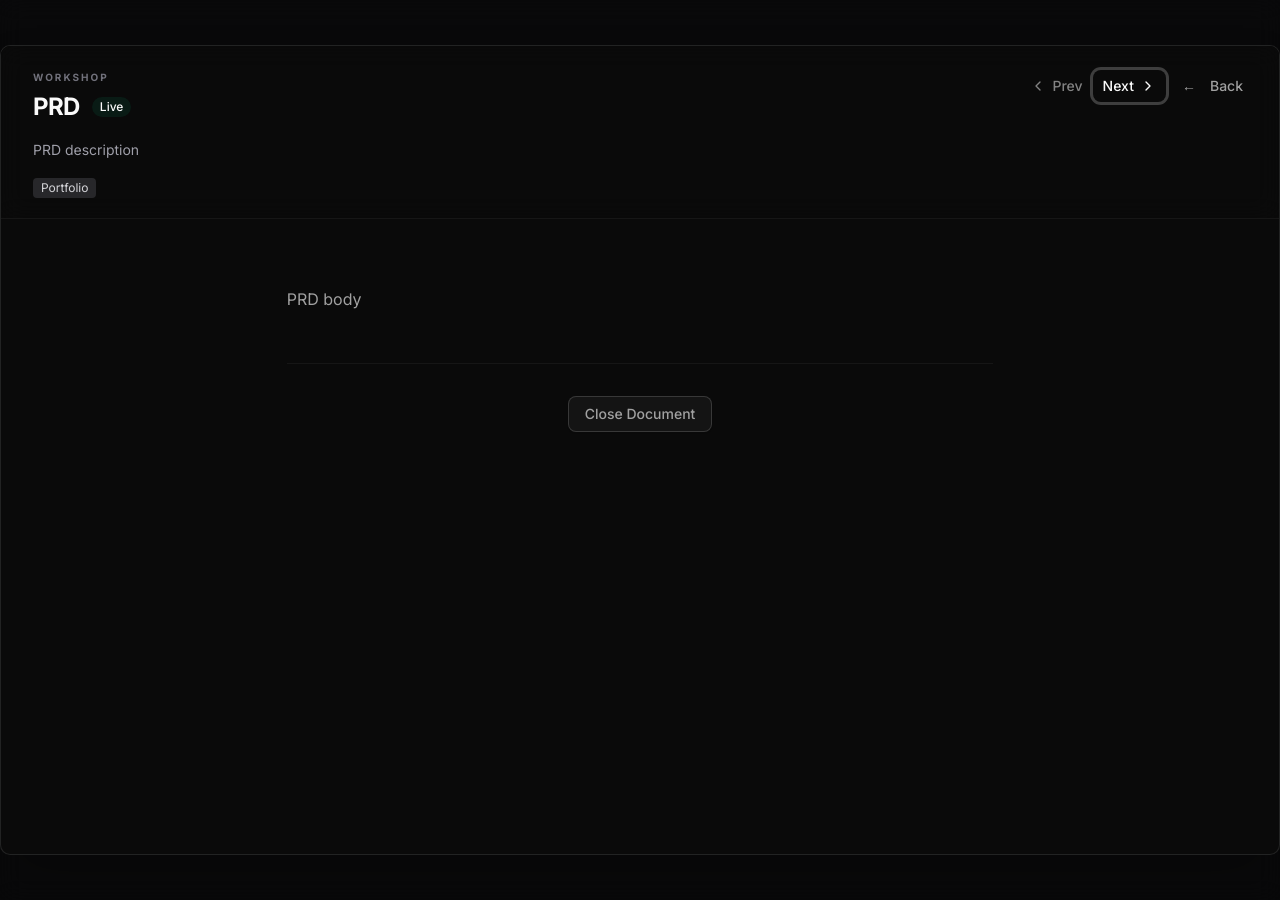
Test: MarkdownDocumentModal blueprint Prev/Next › keeps the full project list, including blueprints a page filter would hide
This screenshot has width=1280, height=900.
Click the button "Next" at (1129, 86), box [1093,70,1166,102]
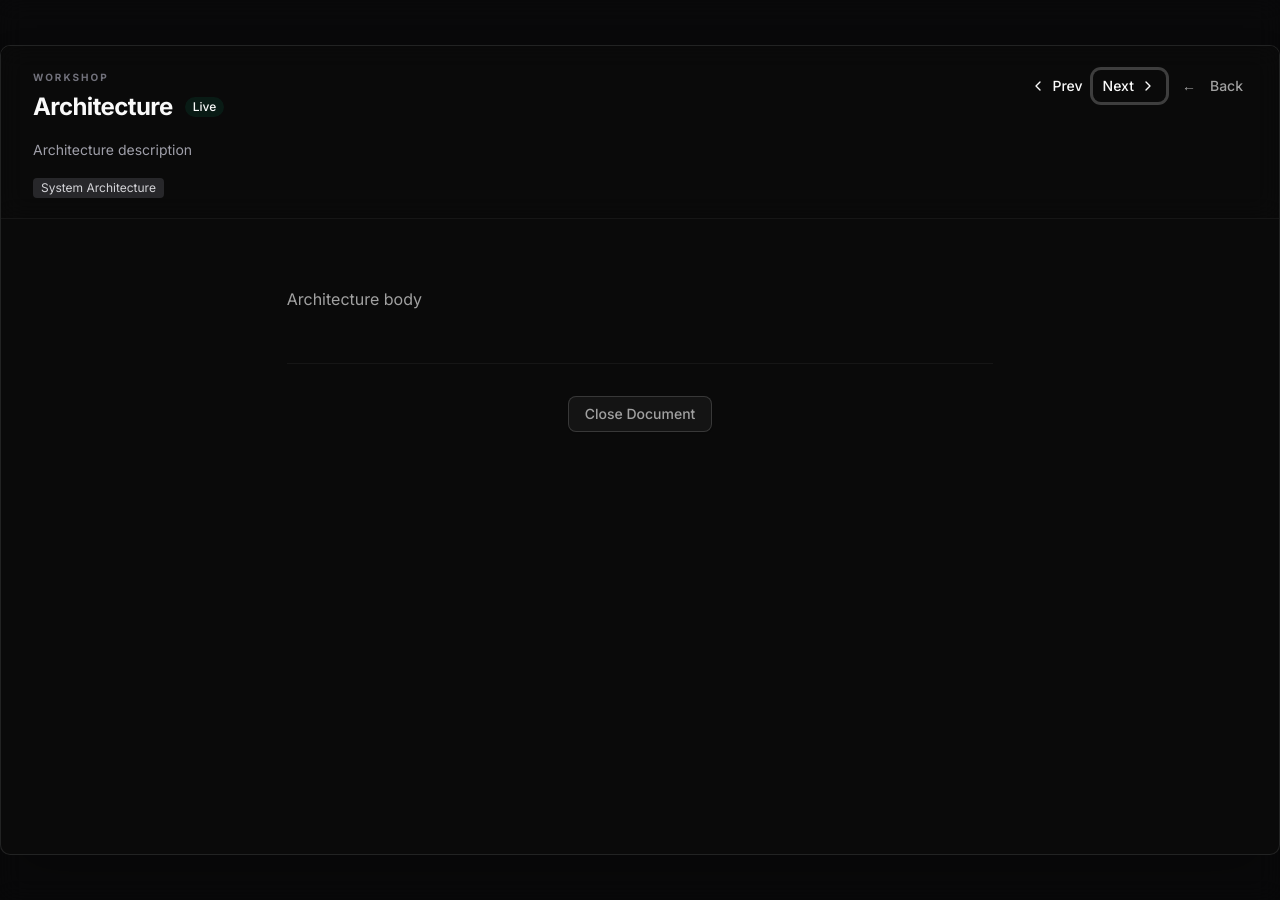
Now the text "Architecture body" is shown, box [287,289,422,309]
Click the button "Next" at (1129, 86), box [1093,70,1166,102]
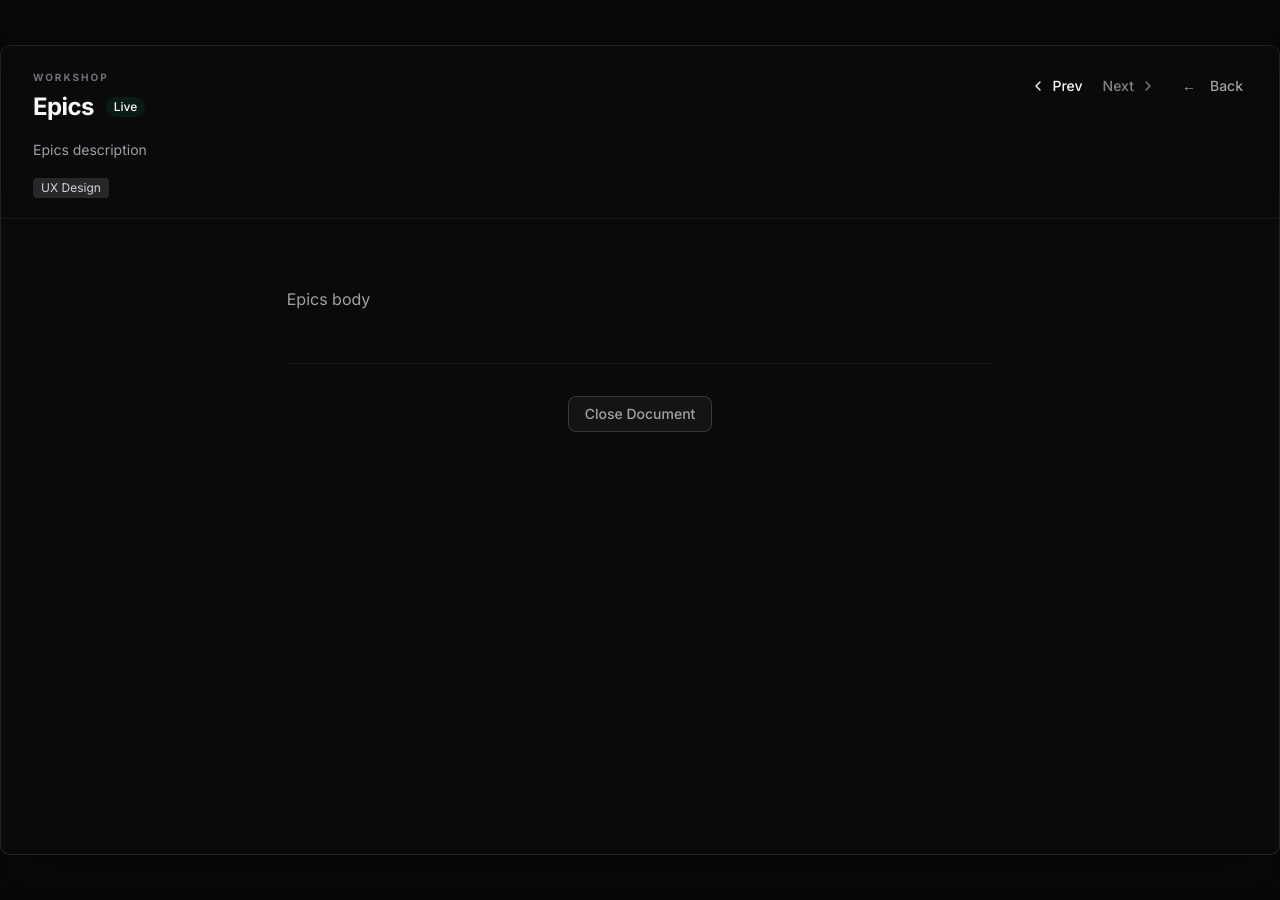
Now the heading "Epics" is shown, box [33,91,94,123]
